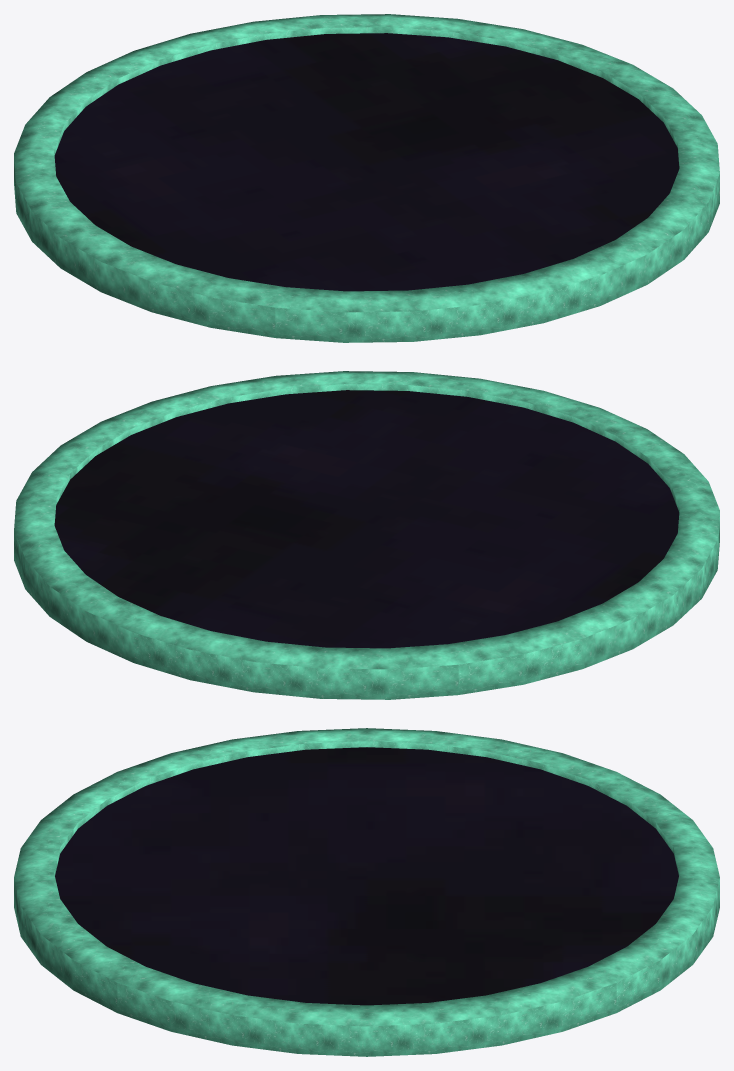
File: mirror_pool.glb
3 views of the same model, one above another, from view 1: azimuth 30°, elevation 25°; view 2: azimuth 150°, elevation 25°; view 3: azimuth 270°, elevation 25° (orthographic).
Parts seen in each view (by area): view 1: MirrorWater, MirrorRim; view 2: MirrorWater, MirrorRim; view 3: MirrorWater, MirrorRim.
Part boxes in pixels (box(x1,y1,x2,y2)): MirrorWater: box(54, 33, 679, 291); MirrorRim: box(14, 14, 719, 342); MirrorWater: box(54, 390, 679, 648); MirrorRim: box(14, 371, 719, 699); MirrorWater: box(55, 747, 678, 1005); MirrorRim: box(14, 728, 719, 1056).
Size of what is drawn, in the model's own units: 15.8 by 0.85 by 15.8.
Materials: 2 (2 with a texture image).
